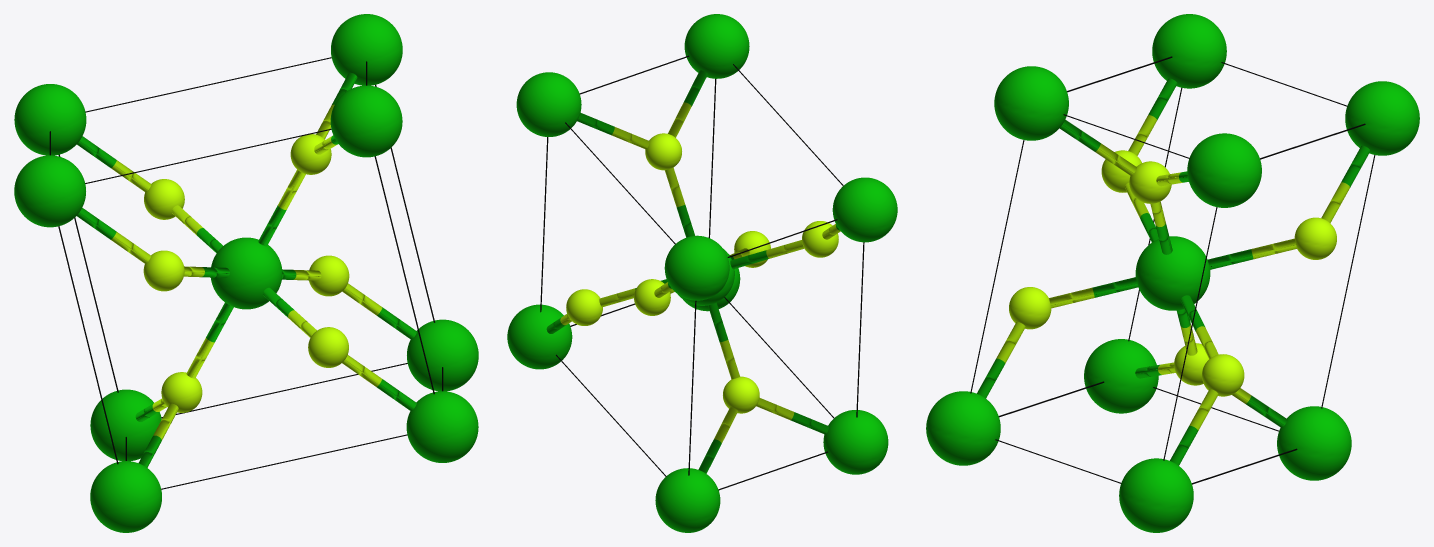
File: CaCl₂.glb
3 views of the same model, side by side, from view 1: azimuth 30°, elevation 25°; view 2: azimuth 150°, elevation 25°; view 3: azimuth 270°, elevation 25° (orthographic). The views are drawn at different scales.
Visible parts, largest first — view 1: UnitCellSegment_0; view 2: UnitCellSegment_0; view 3: UnitCellSegment_0.
Boxes of the visible parts, x1,y1,x2,y2 form: UnitCellSegment_0: (14, 14, 478, 532); UnitCellSegment_0: (507, 14, 897, 532); UnitCellSegment_0: (926, 14, 1419, 532).
Bounding box in the file's own units: 0.9807 × 0.947 × 0.9206.
